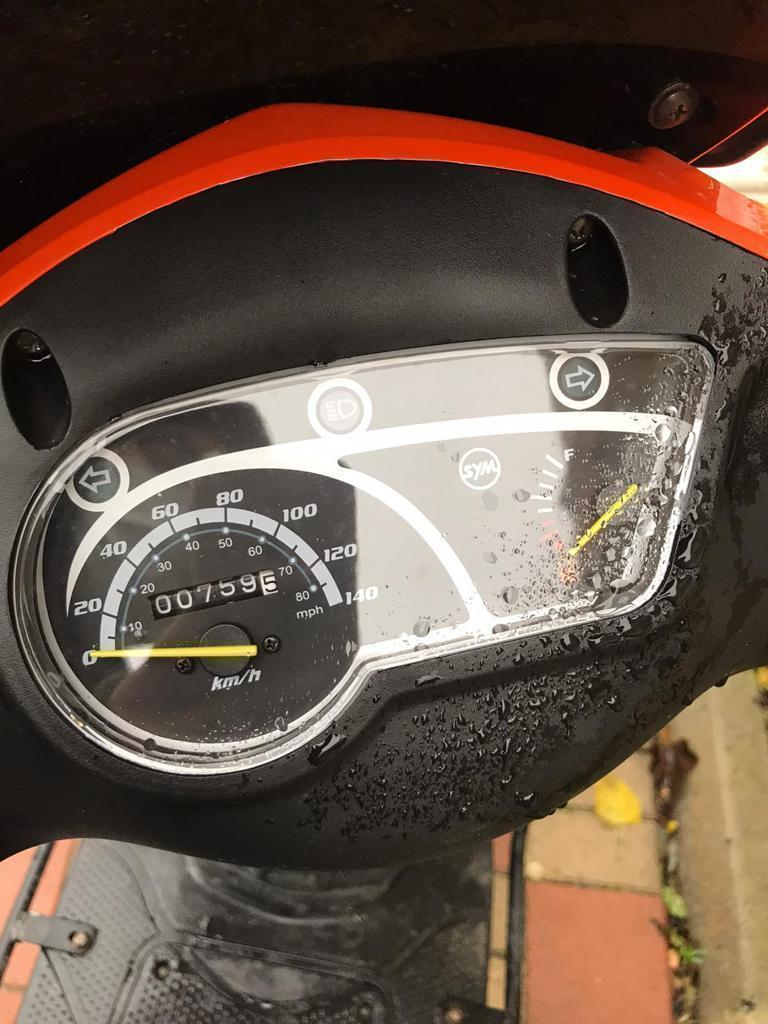0: (175, 588, 193, 611), (154, 593, 172, 614), (147, 581, 155, 593)
5: (262, 572, 278, 598), (218, 576, 236, 597)
7: (196, 581, 213, 603), (278, 566, 283, 575)
9: (239, 572, 258, 593)
odometer: (147, 568, 284, 623)
